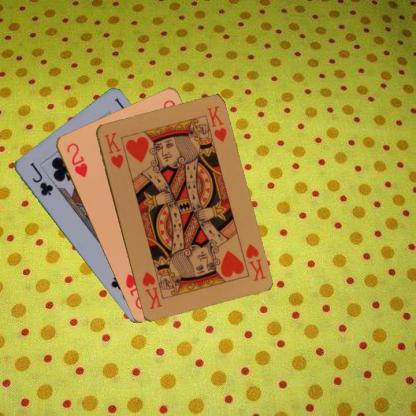2h: (63, 140, 88, 178)
Jc: (27, 159, 54, 197)
Kh: (100, 129, 125, 170), (243, 241, 266, 282)
